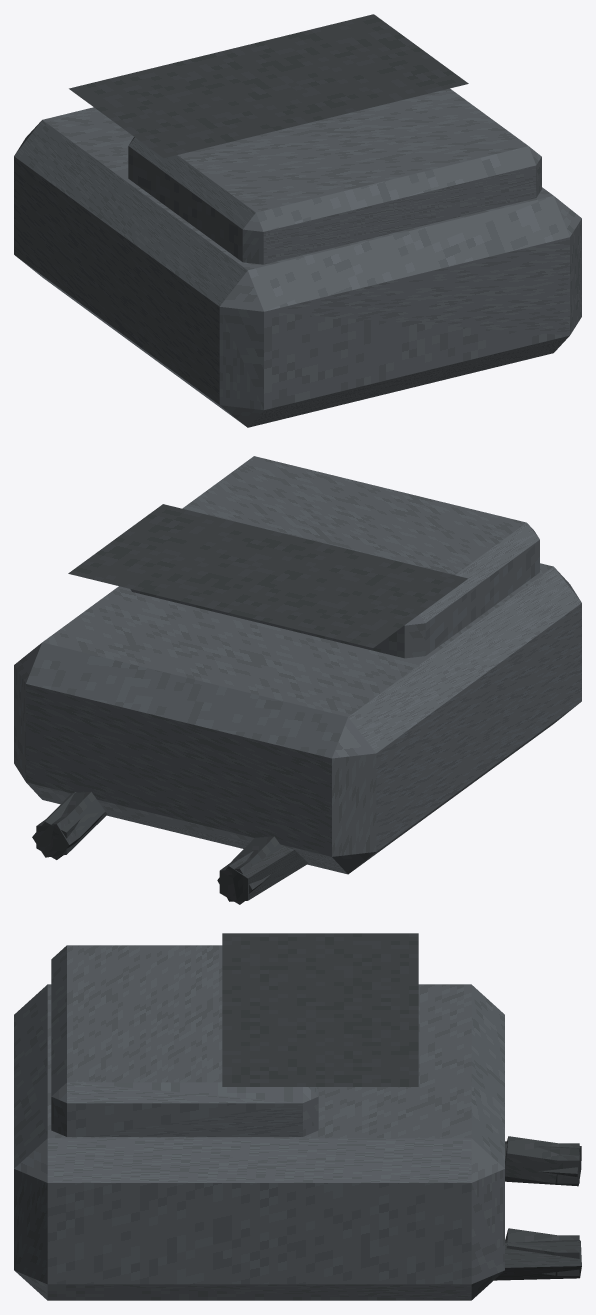
File: chestpouch.glb
The picture shows the model from 3 angles, top to bottom: view 1: azimuth 30°, elevation 25°; view 2: azimuth 150°, elevation 25°; view 3: azimuth 270°, elevation 25°; orthographic projection. The views are drawn at different scales.
Visible parts, largest first — view 1: block_soft-sided bag, block_front compartment, block_single closure flap; view 2: block_soft-sided bag, block_single closure flap, block_front compartment, block_webbing strap 2 (×2), block_webbing strap 0 (×2), block_webbing strap 1 (×2); view 3: block_soft-sided bag, block_front compartment, block_single closure flap, block_webbing strap 2 (×2), block_webbing strap 0 (×2), block_webbing strap 1.
Part boxes in pixels (x1,y1,x2,y2): block_soft-sided bag: [14, 107, 581, 427]; block_front compartment: [128, 88, 541, 264]; block_single closure flap: [69, 14, 468, 158]; block_soft-sided bag: [14, 563, 581, 874]; block_single closure flap: [68, 504, 467, 647]; block_front compartment: [130, 456, 539, 658]; block_webbing strap 2 (×2): [32, 792, 308, 901]; block_webbing strap 0 (×2): [47, 791, 281, 881]; block_webbing strap 1 (×2): [36, 816, 262, 904]; block_soft-sided bag: [14, 984, 504, 1300]; block_front compartment: [51, 945, 318, 1136]; block_single closure flap: [222, 933, 418, 1086]; block_webbing strap 2 (×2): [494, 1141, 581, 1280]; block_webbing strap 0 (×2): [505, 1136, 559, 1275]; block_webbing strap 1: [557, 1143, 579, 1183].
Size of the model in its own units: 0.101 by 0.0567 by 0.1329.
Materials: 1 (1 with a texture image).
